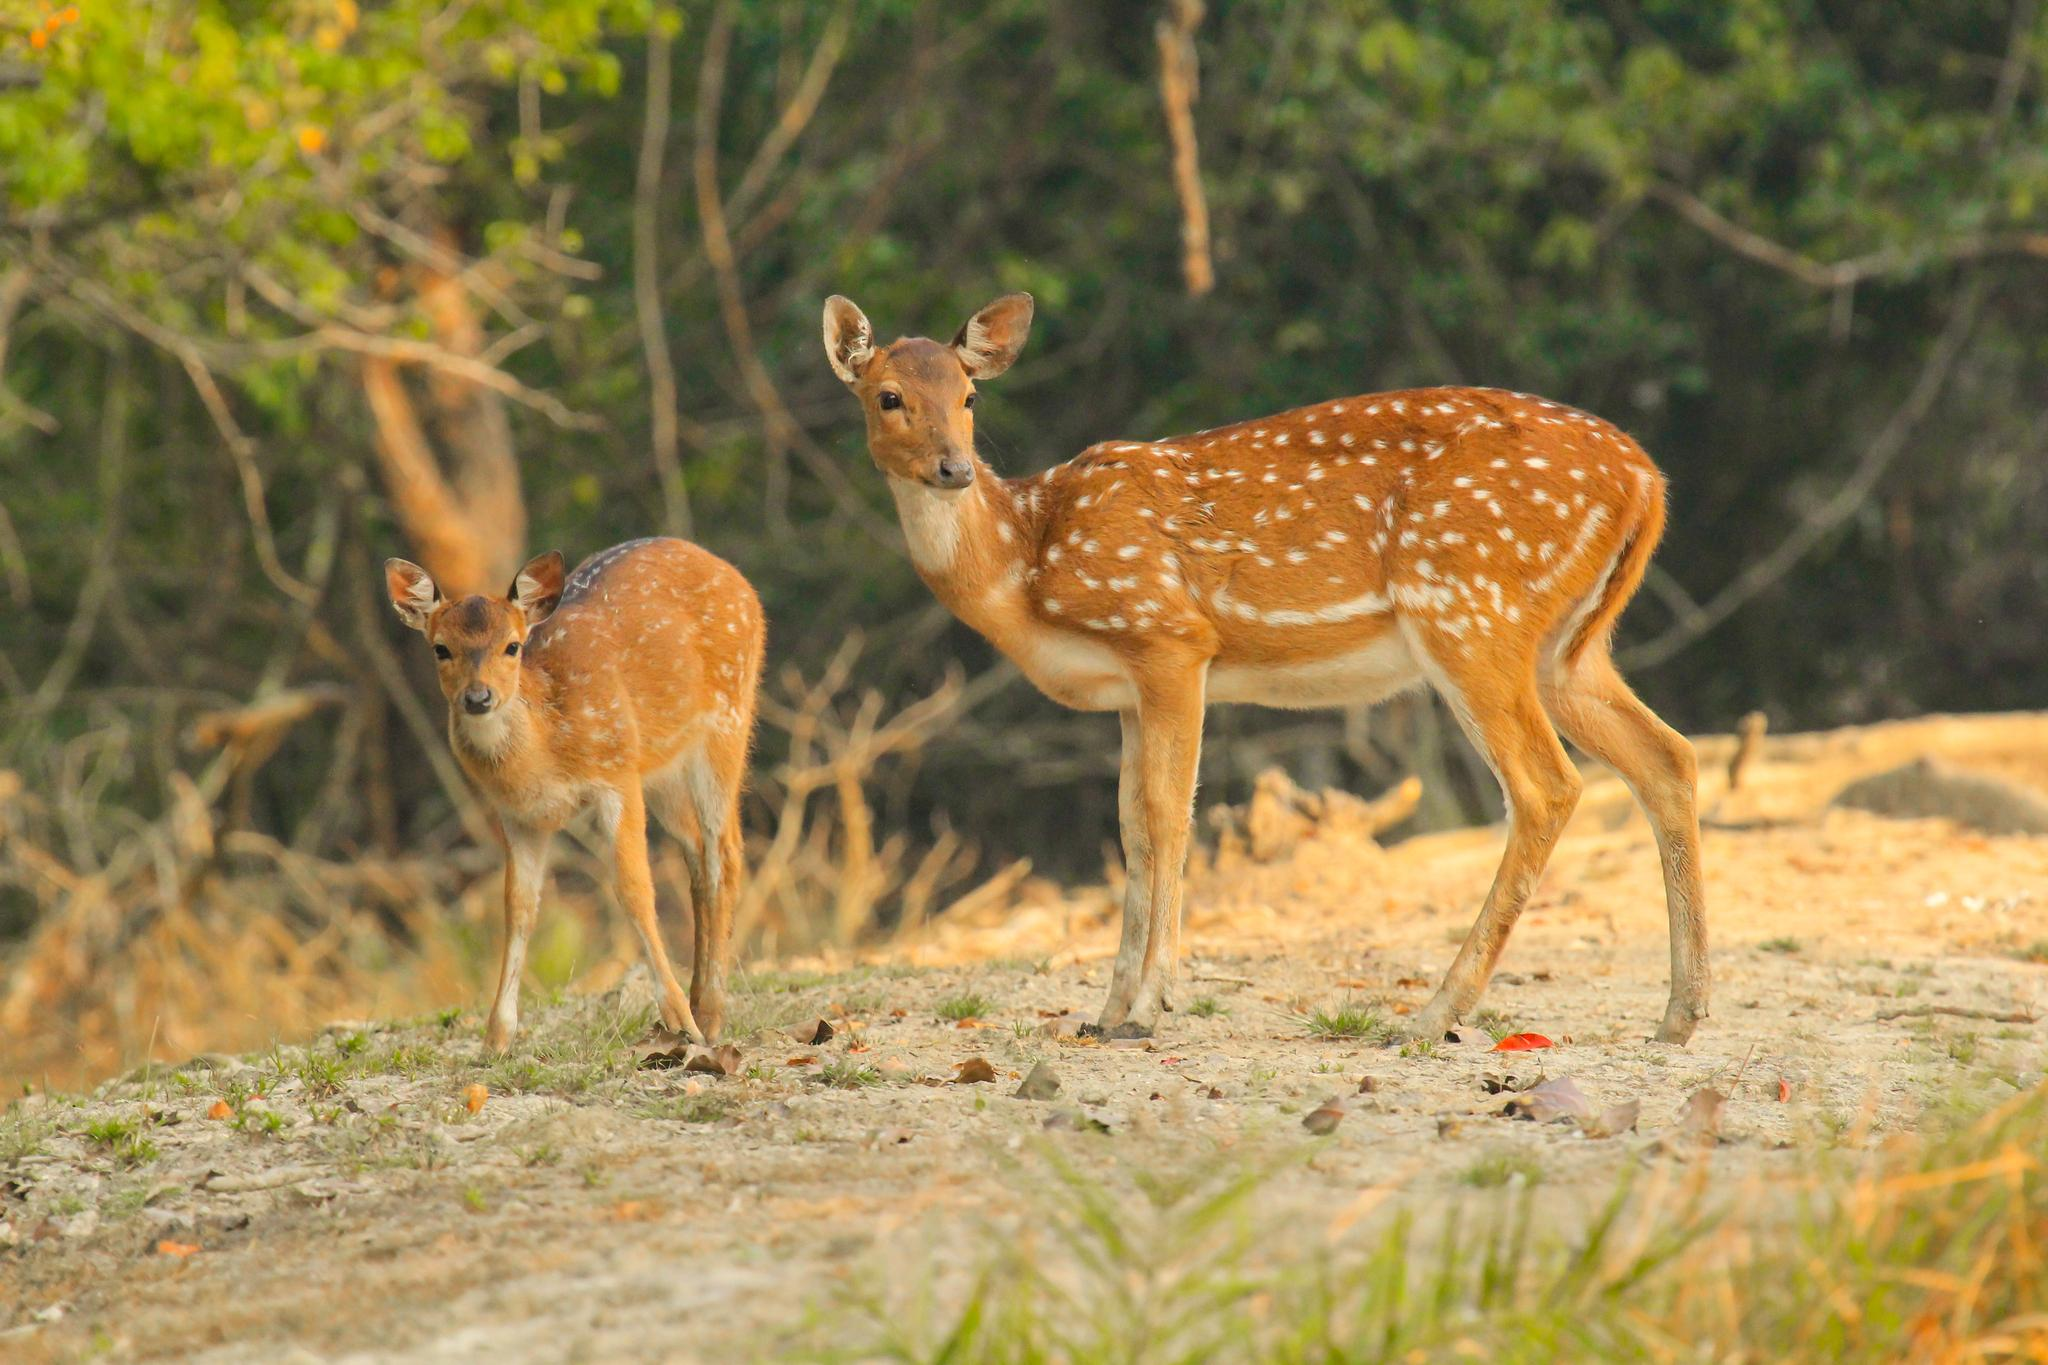Deer: (824, 296, 1708, 1044), (387, 538, 764, 1047)
